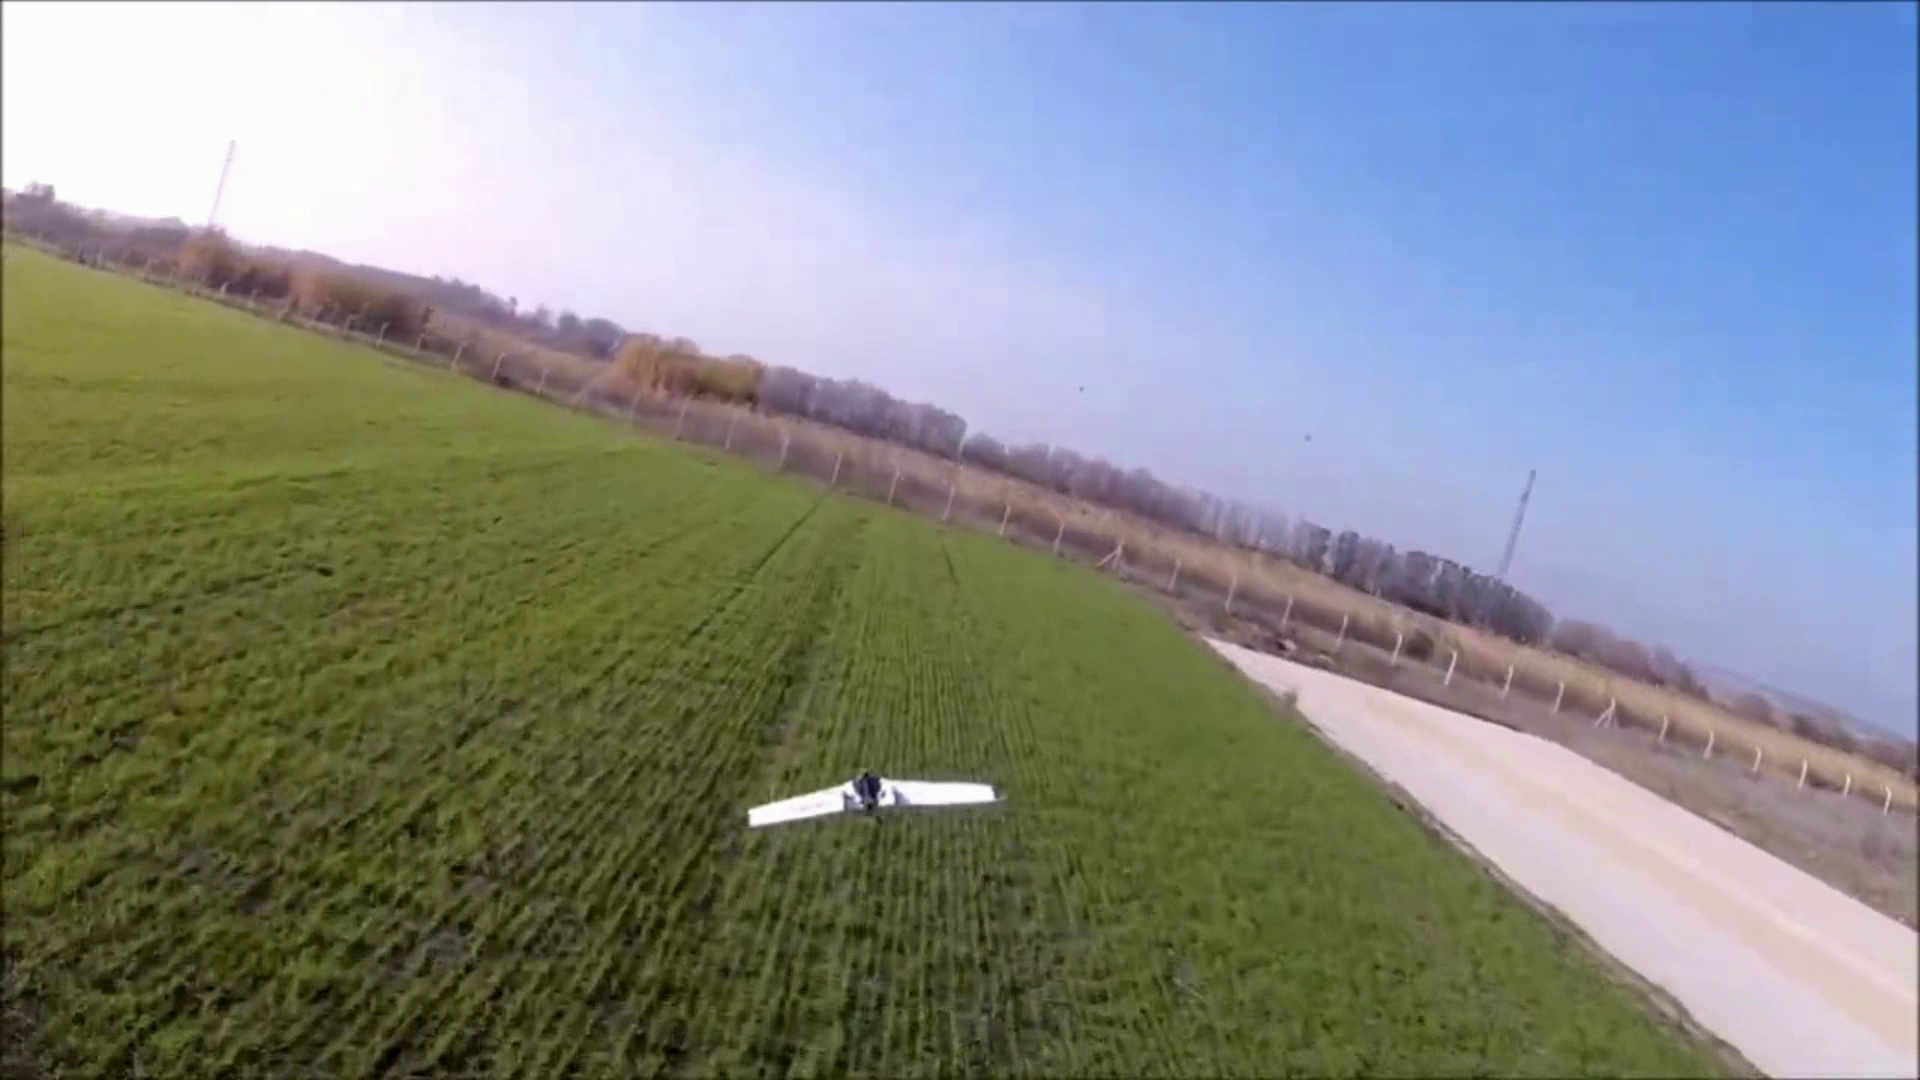airplane: (744, 769, 1003, 831)
